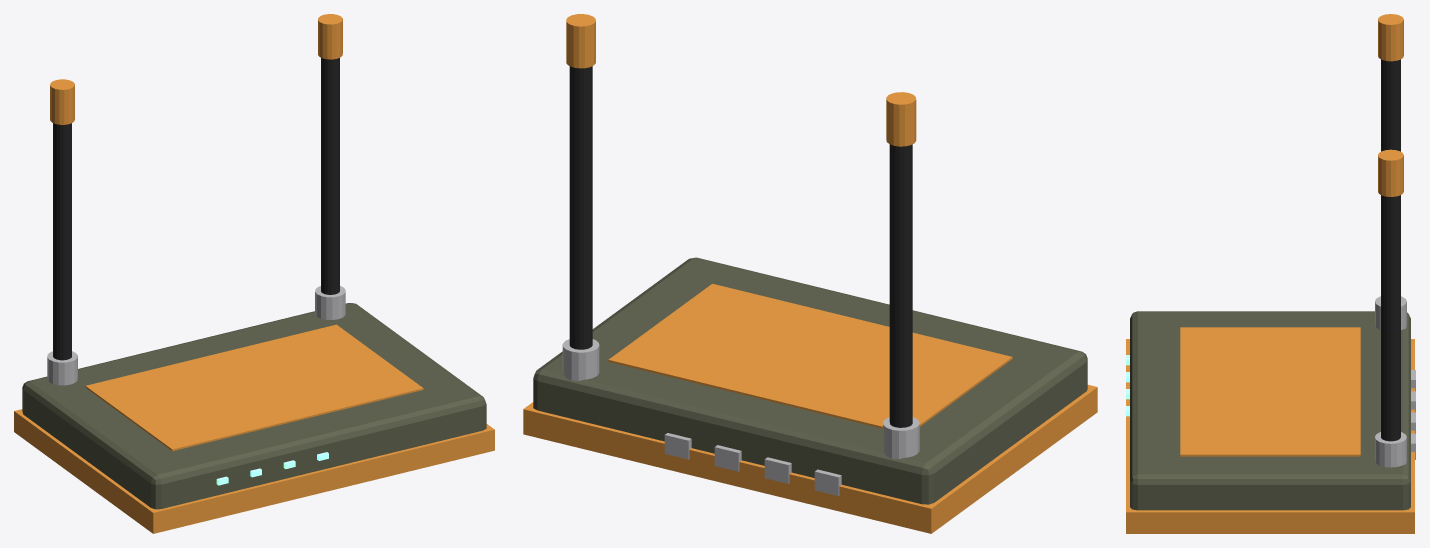
Rendered from ROOT_AER_Router.fbx.
The picture shows the model from 3 angles, left to right: view 1: azimuth 30°, elevation 25°; view 2: azimuth 150°, elevation 25°; view 3: azimuth 270°, elevation 25°; orthographic projection. The views are drawn at different scales.
Parts seen in each view (by area): view 1: ROOT_AER_Router_LOD0; view 2: ROOT_AER_Router_LOD0; view 3: ROOT_AER_Router_LOD0.
Boxes of the visible parts, <box> form: ROOT_AER_Router_LOD0: <box>14,14,494,533</box>; ROOT_AER_Router_LOD0: <box>523,14,1097,533</box>; ROOT_AER_Router_LOD0: <box>1126,14,1415,533</box>.
Size of what is drawn, in the model's own units: 20.4 by 20 by 14.45.
